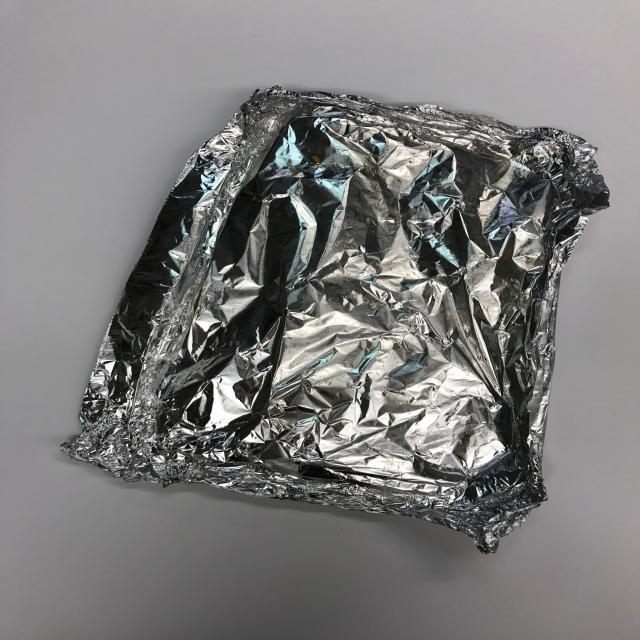metal: (63, 86, 612, 560)
